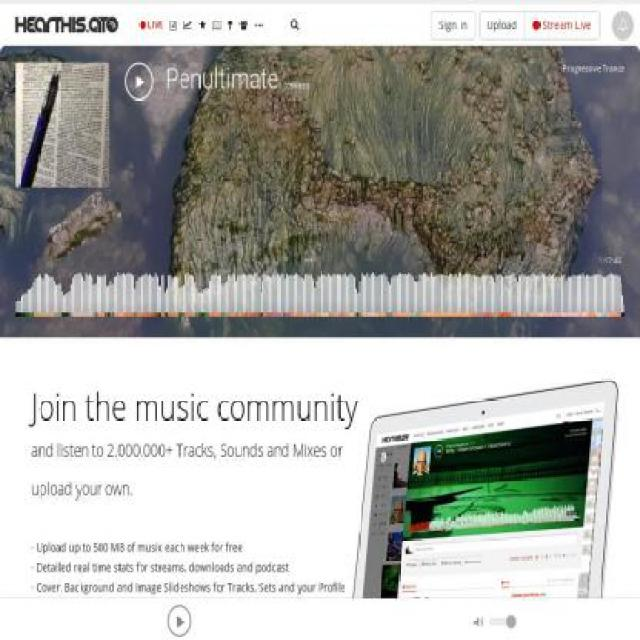button: (166, 62, 625, 103), (524, 10, 599, 39), (478, 10, 524, 39), (431, 10, 475, 39), (136, 8, 167, 46), (209, 8, 225, 46), (235, 8, 251, 46), (251, 8, 267, 46), (180, 8, 195, 46), (196, 8, 210, 46), (167, 8, 179, 46), (224, 8, 236, 46)
field: (287, 12, 399, 36)
